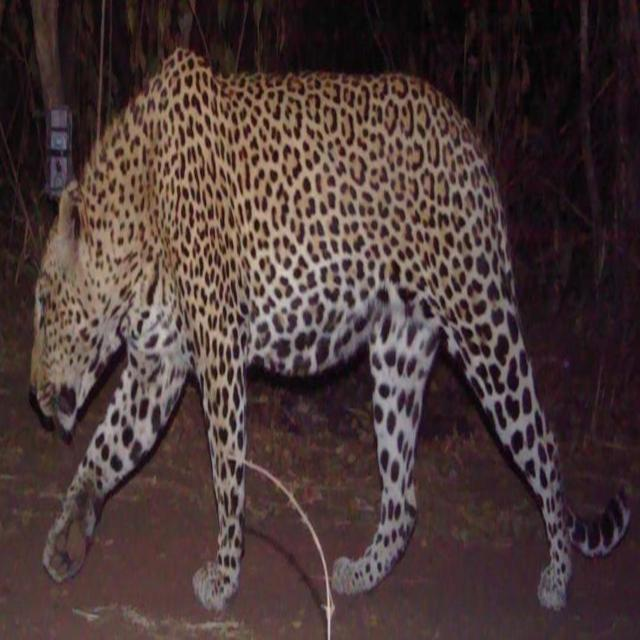Leopard: (36, 49, 629, 640)
